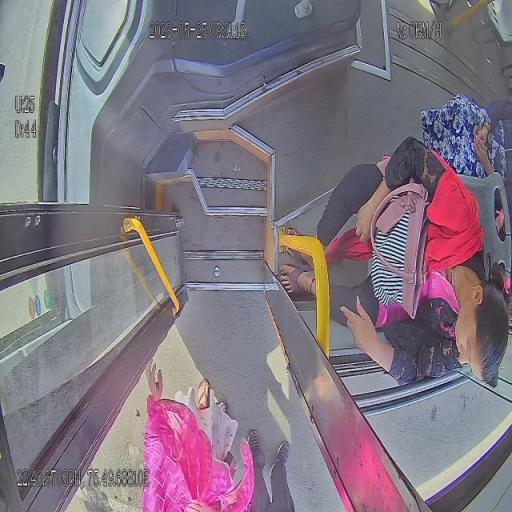persona: (278, 136, 510, 389), (141, 359, 296, 511), (421, 92, 511, 235)
